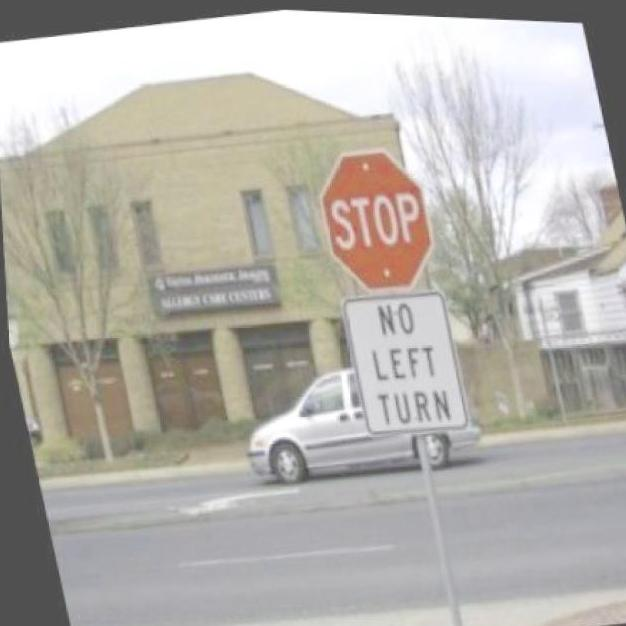stop_sign: (306, 136, 442, 301)
